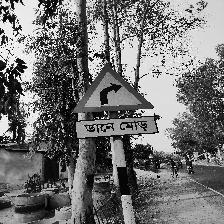Right-turn: (71, 64, 158, 140)
